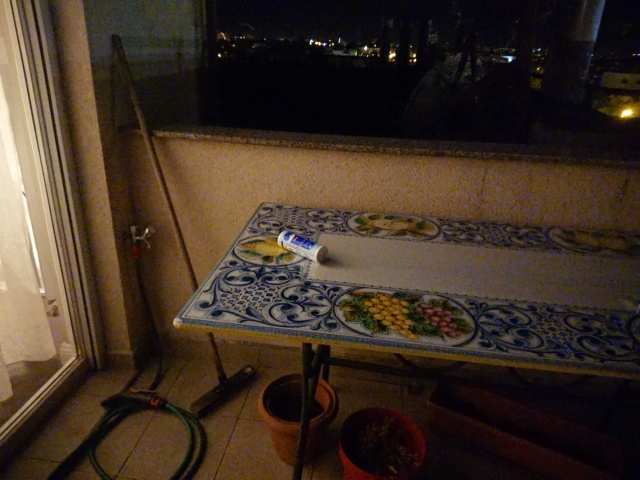Solana Pag Fine Sea Salt 250g: (274, 227, 332, 268)
